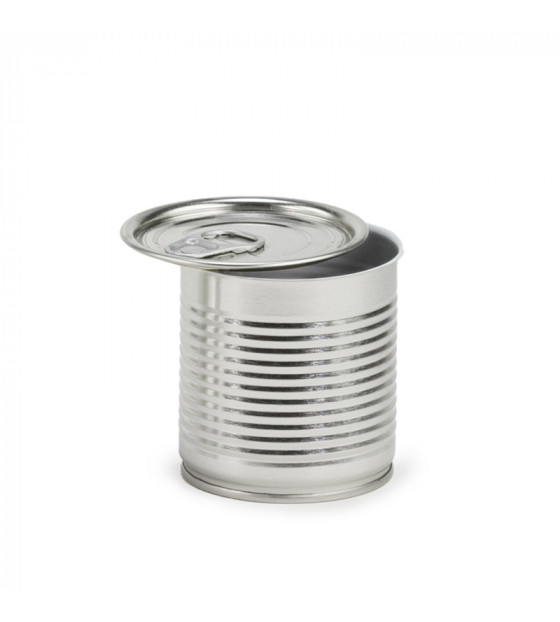can: (110, 184, 439, 514)
